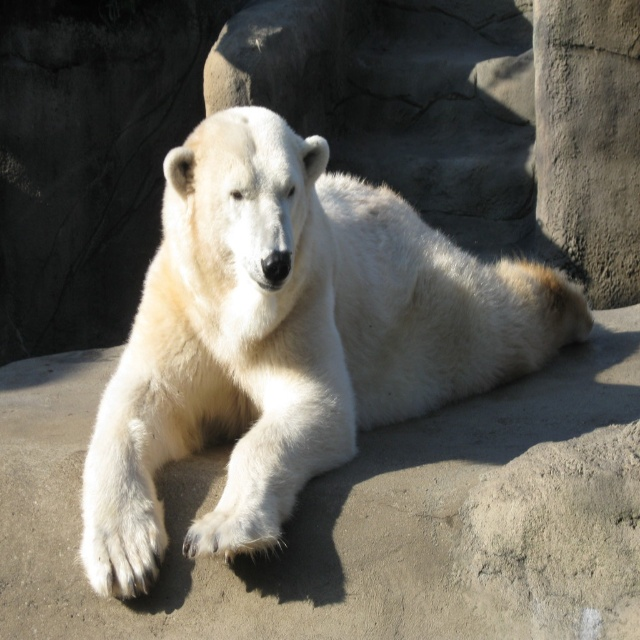Polar bear: (72, 105, 598, 609)
